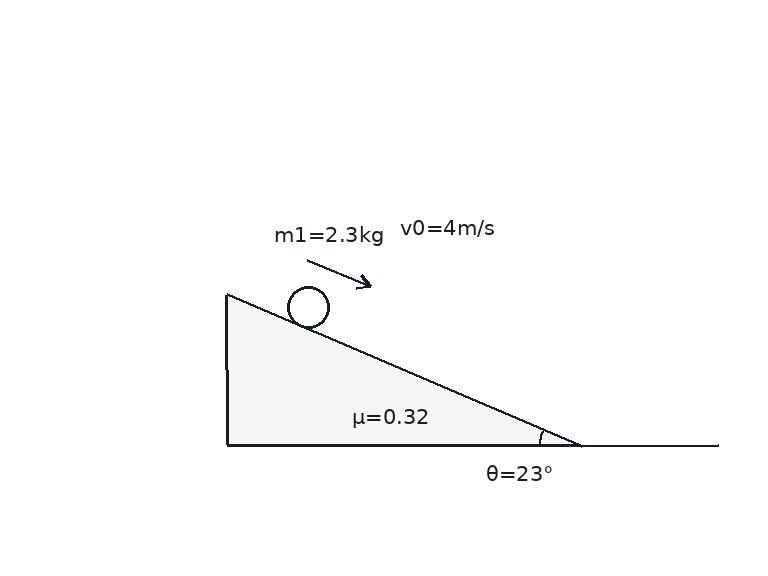ball: (285, 284, 331, 330)
ramp: (225, 293, 582, 447)
